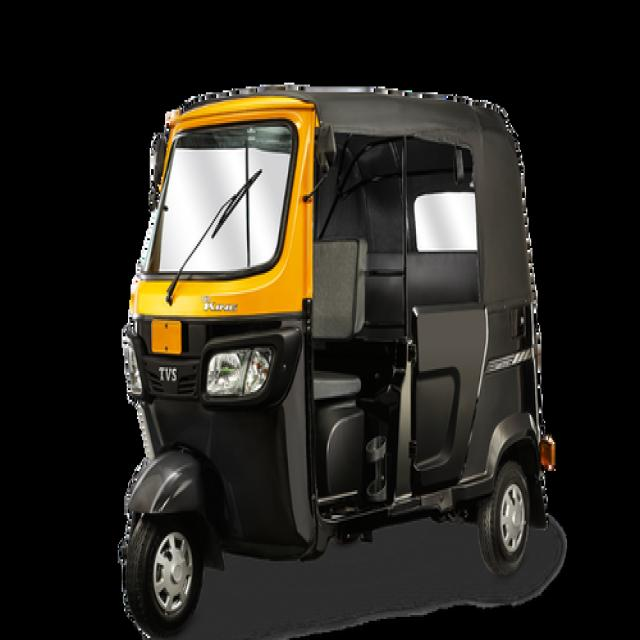autorickshaw: (120, 83, 554, 634)
